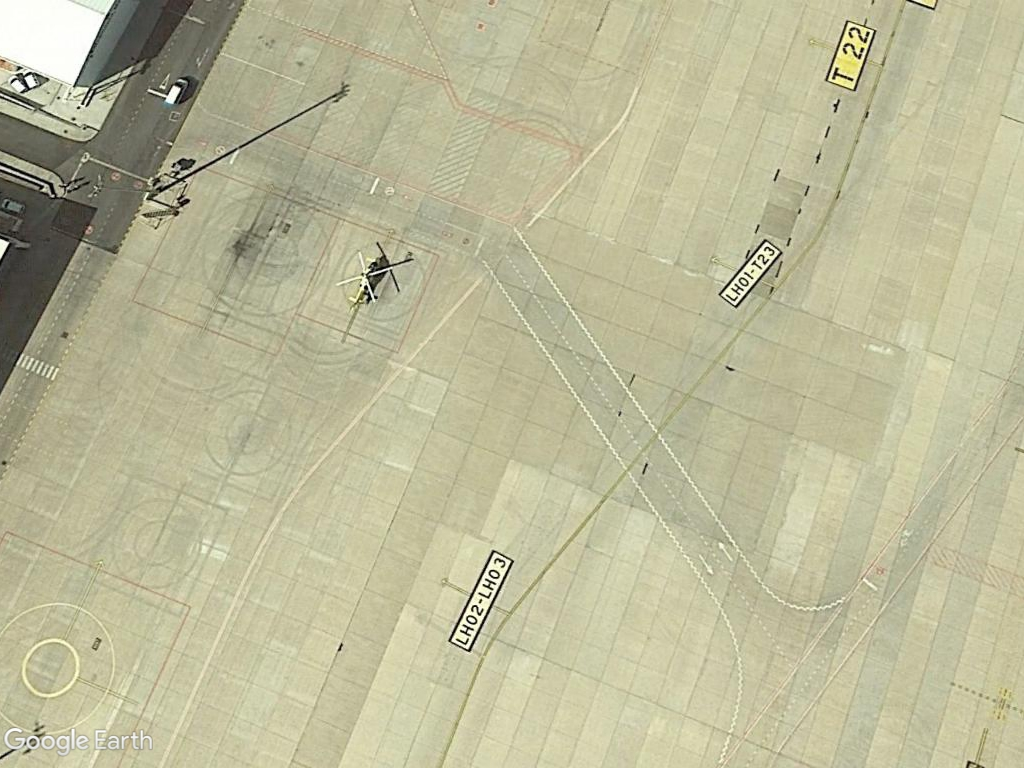helicopter: (335, 242, 405, 319)
van: (158, 71, 190, 113)
